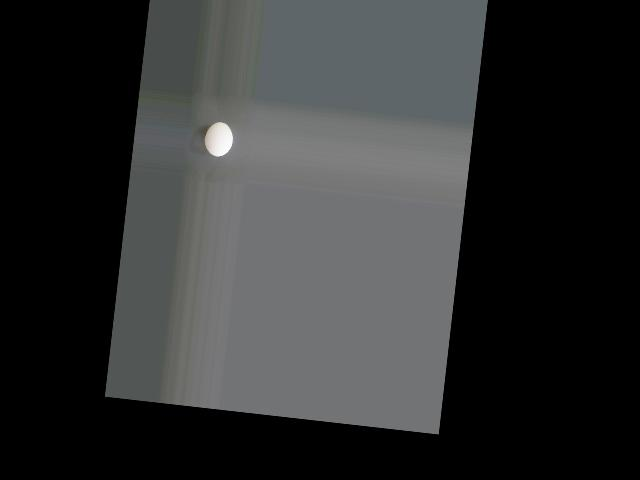egg: (203, 120, 234, 156)
